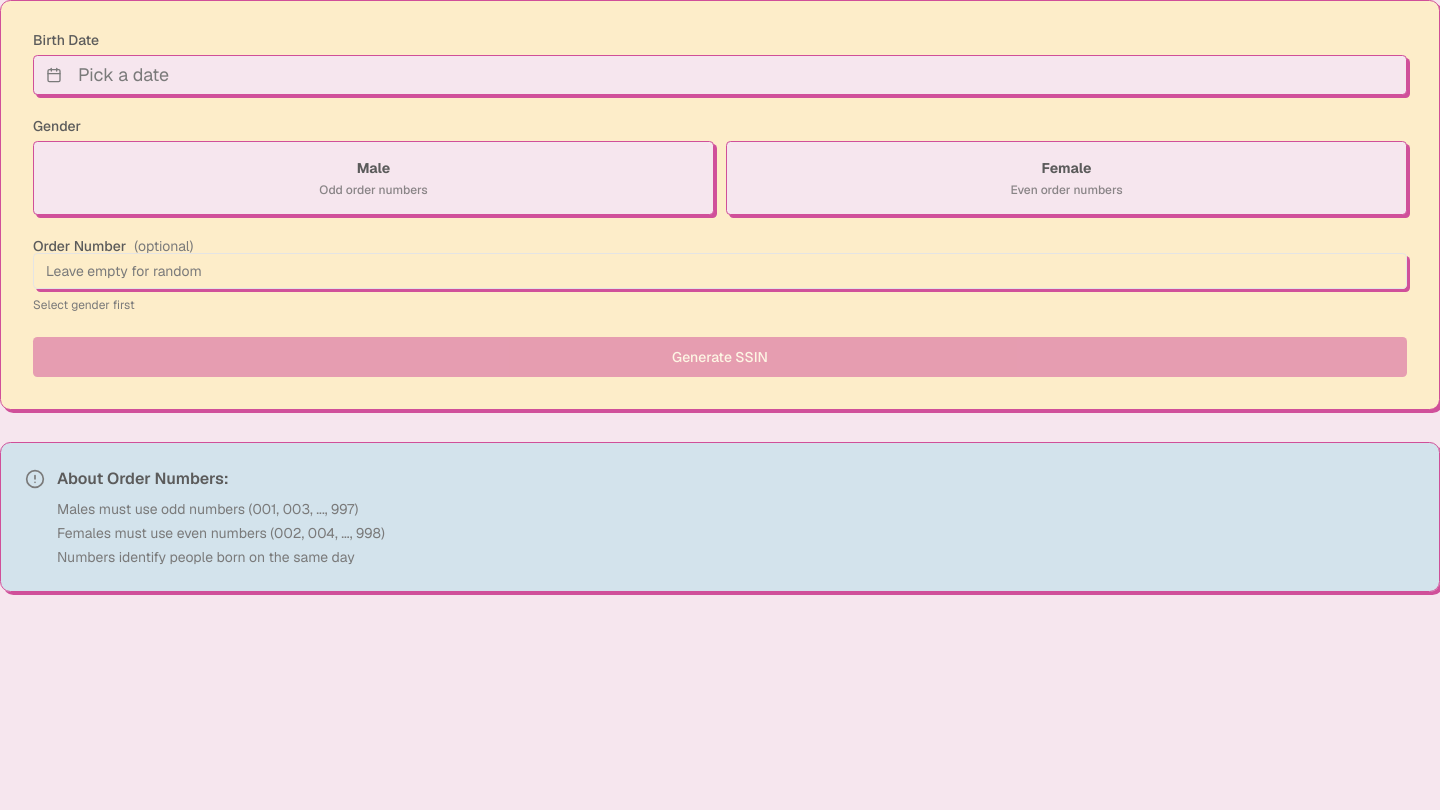
SSINGeneratorForm › Gender Selection › should display gender-specific order number guidance for males
The image size is (1440, 810).
Click the button "Male Odd order numbers".
click(374, 178)  # box [33,141,714,215]
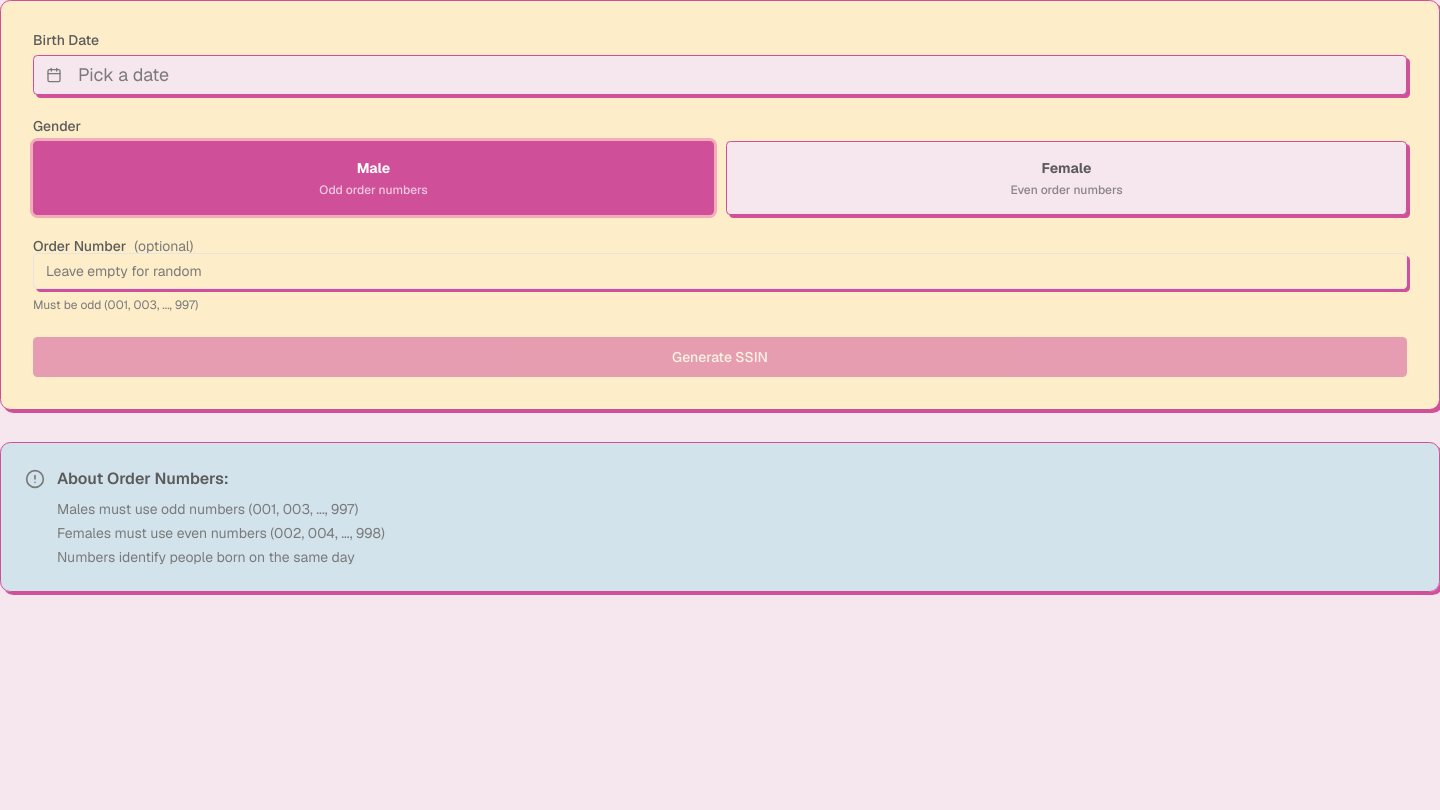
expect the text "Must be odd (001, 003, ..., 997)" is shown: met, box [33,297,198,313]
